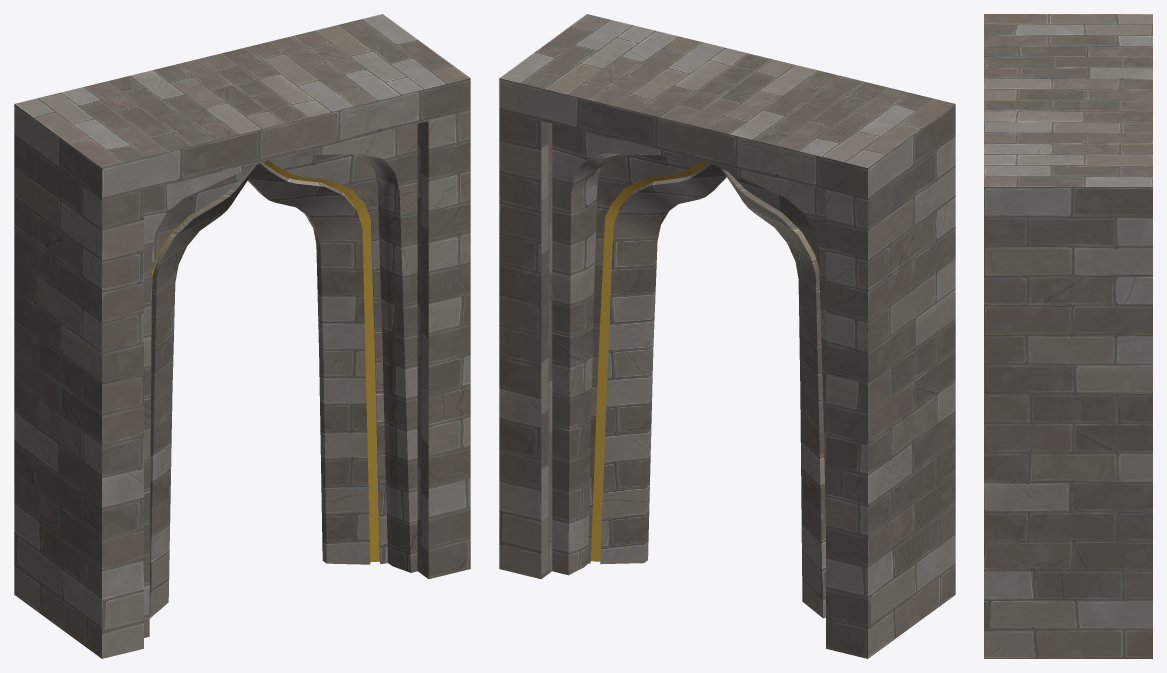
File: gate_large_citygate.fbx
The picture shows the model from 3 angles, left to right: view 1: azimuth 30°, elevation 25°; view 2: azimuth 150°, elevation 25°; view 3: azimuth 270°, elevation 25°; orthographic projection. The views are drawn at different scales.
Visible parts, largest first — view 1: gate_frame, gate_trim_interior, gate_frame_2, gate_trim_3, gate_frame_trim; view 2: gate_frame, gate_trim_interior, gate_frame_2, gate_trim_3, gate_frame_trim; view 3: gate_frame.
Boxes of the visible parts, bbox=[...] form: gate_frame: bbox=[14, 14, 470, 658]; gate_trim_interior: bbox=[149, 162, 370, 618]; gate_frame_2: bbox=[144, 123, 417, 637]; gate_trim_3: bbox=[152, 154, 387, 563]; gate_frame_trim: bbox=[151, 160, 379, 562]; gate_frame: bbox=[499, 14, 955, 658]; gate_trim_interior: bbox=[600, 163, 825, 618]; gate_frame_2: bbox=[552, 123, 825, 575]; gate_trim_3: bbox=[588, 154, 818, 563]; gate_frame_trim: bbox=[591, 160, 825, 561]; gate_frame: bbox=[984, 14, 1152, 658].
Bounding box in the file's own units: 15.73 × 20.01 × 6.49.
